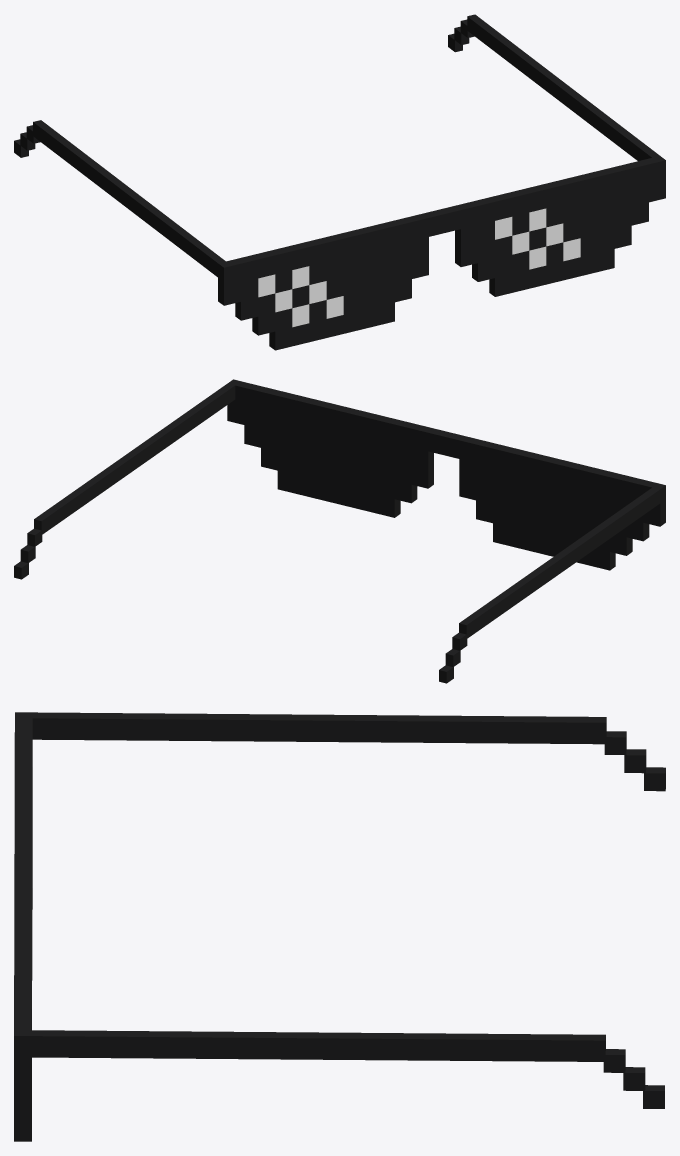
File: glasses.glb
3 renders of one model, top to bottom at view 1: azimuth 30°, elevation 25°; view 2: azimuth 150°, elevation 25°; view 3: azimuth 270°, elevation 25°, orthographic. The views are drawn at different scales.
Parts seen in each view (by area): view 1: cube.107, cube.103, cube.051, cube; view 2: cube.107, cube.103, cube.051; view 3: cube.103, cube.107, cube.052.
Part boxes in pixels (x1=…): cube.107: x1=33, y1=120, x2=225, y2=277; cube.103: x1=467, y1=14, x2=659, y2=160; cube.051: x1=423, y1=206, x2=460, y2=236; cube: x1=218, y1=259, x2=240, y2=286; cube.107: x1=459, y1=487, x2=660, y2=638; cube.103: x1=34, y1=383, x2=235, y2=534; cube.051: x1=428, y1=428, x2=464, y2=458; cube.103: x1=31, y1=1030, x2=605, y2=1061; cube.107: x1=32, y1=712, x2=606, y2=744; cube.052: x1=14, y1=1023, x2=31, y2=1064.
Size of the model in its own units: 1.23 by 0.25 by 1.03.
1 material, 1 textured.
